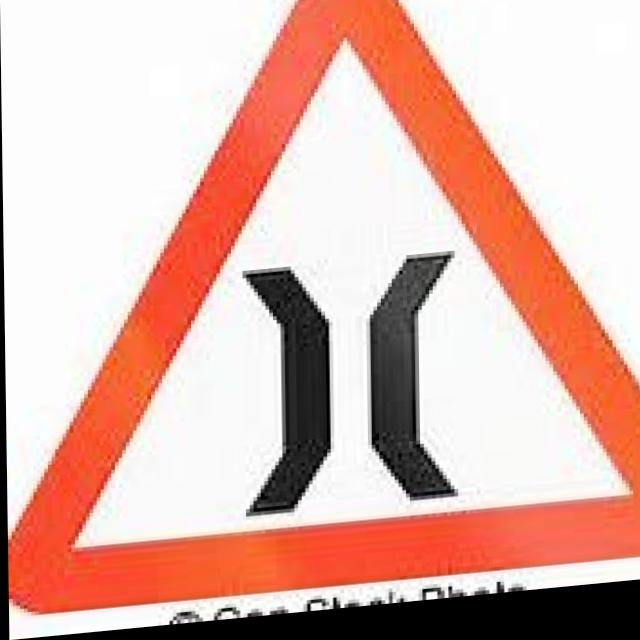NARROW_BRIDGE: (0, 0, 640, 618)
